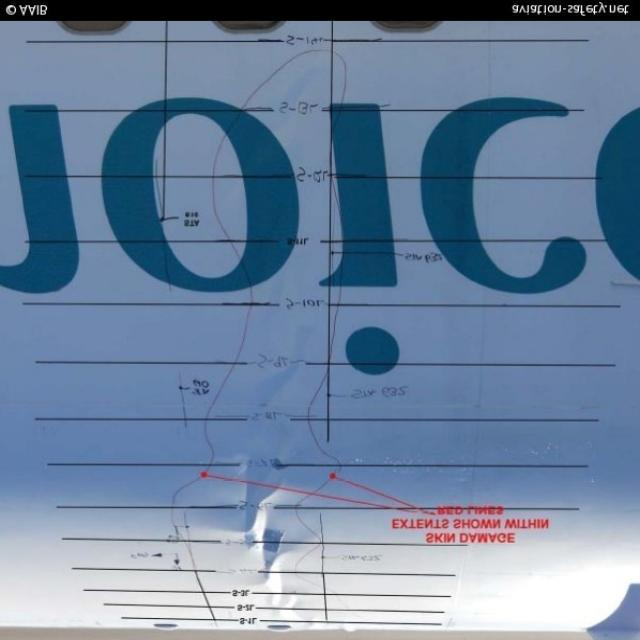dent: (191, 471, 280, 535), (252, 551, 300, 599)
